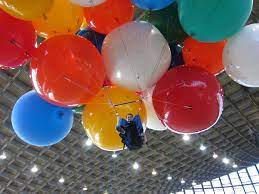Balloon: (32, 33, 103, 109), (155, 65, 222, 133), (103, 21, 170, 89), (85, 88, 145, 150), (12, 90, 72, 146), (178, 1, 253, 43), (223, 23, 259, 87)
